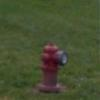a fire hydrant: (36, 42, 66, 96)
